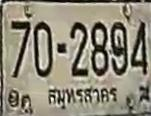0: (33, 21, 52, 76)
2: (69, 21, 90, 77)
4: (130, 20, 147, 74)
7: (11, 20, 30, 79)
8: (90, 21, 108, 76)
9: (110, 21, 127, 74)
SKN: (44, 85, 122, 110)
